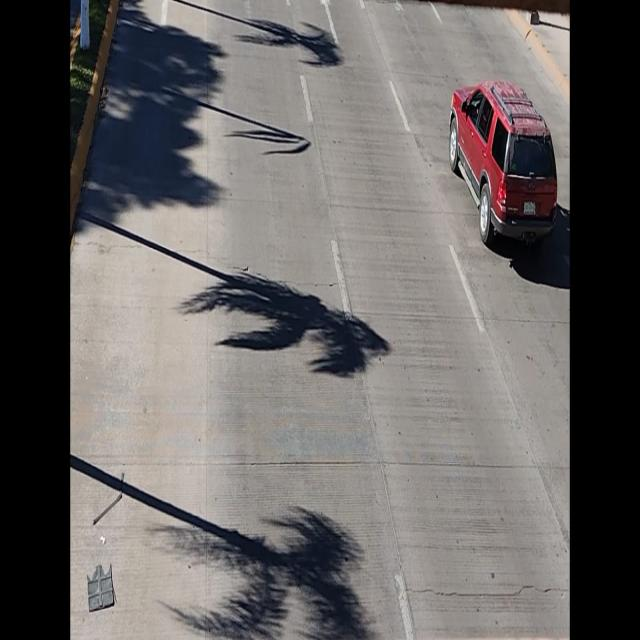Auto: (448, 80, 558, 257)
